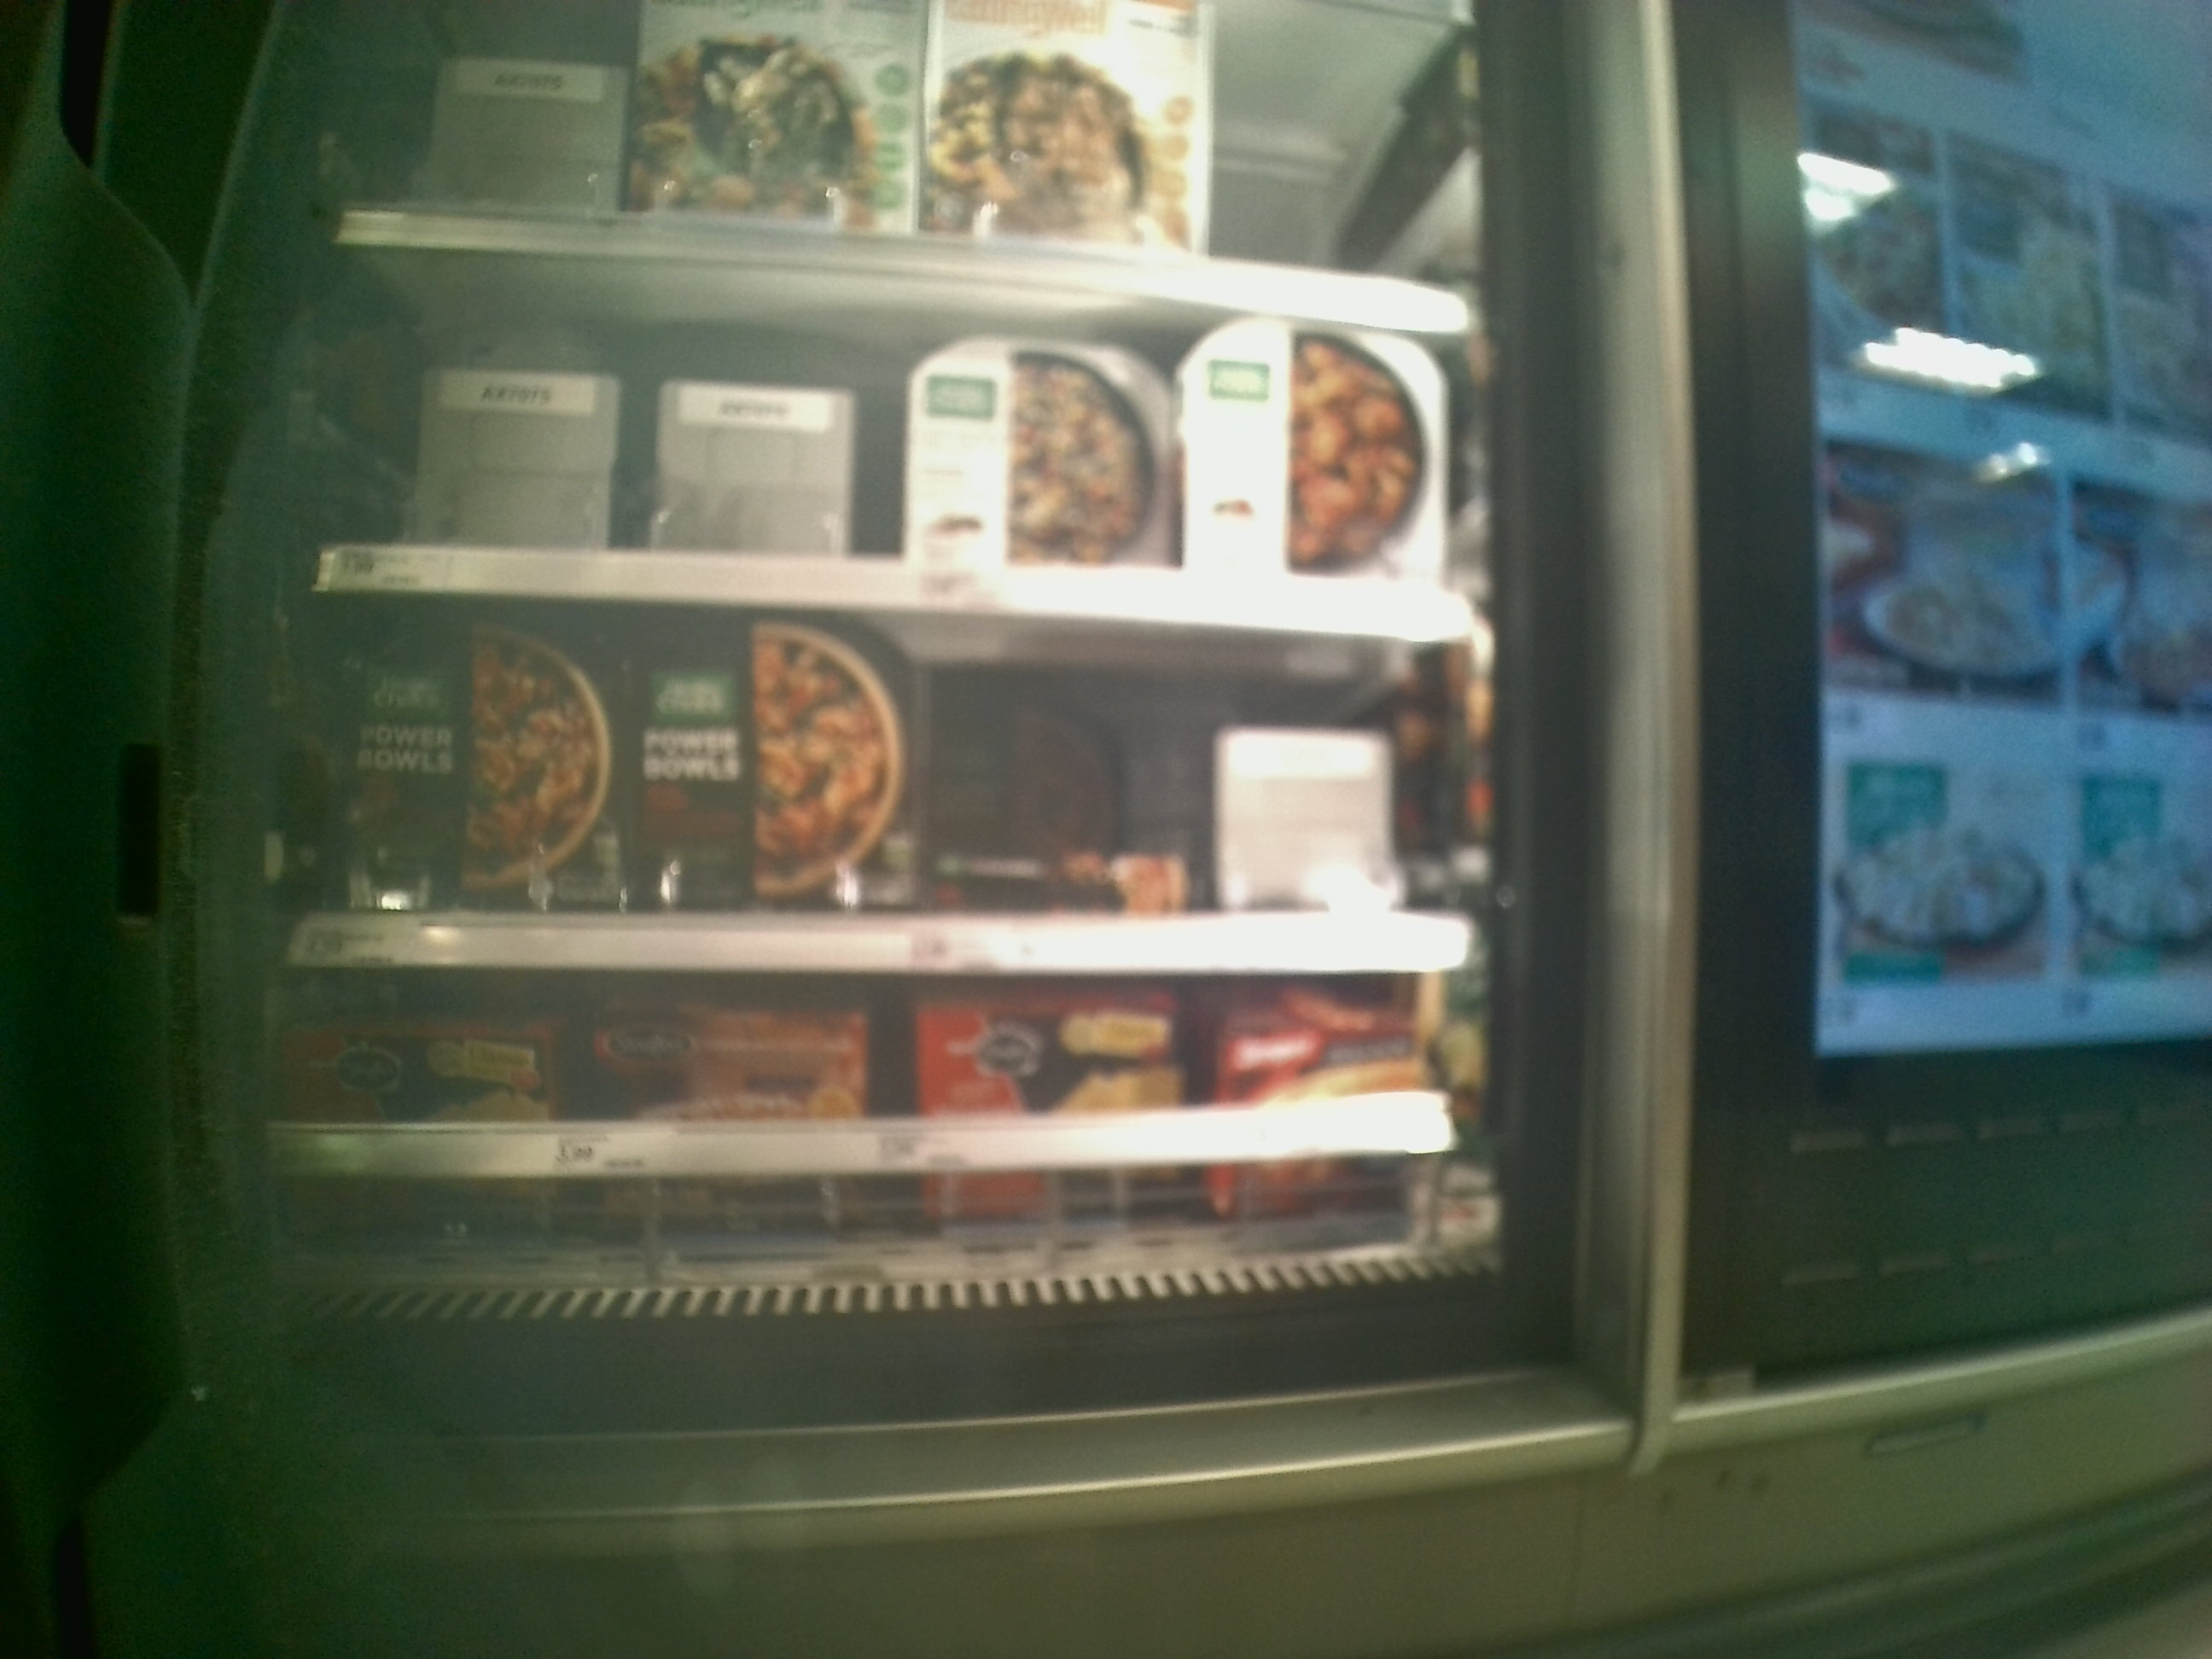shelf: (279, 967, 1529, 1399), (315, 230, 1484, 631), (310, 591, 1486, 978)
